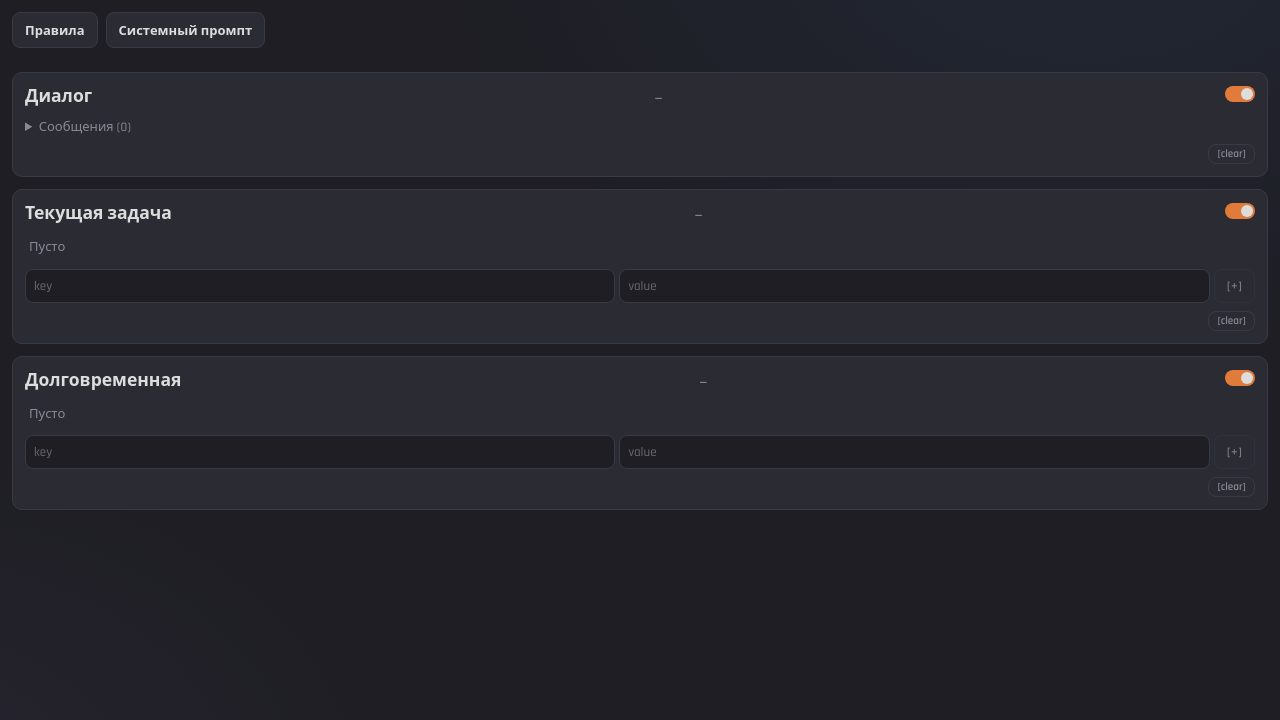
Test: MemoryTab — модалки «Правила» и «Системный промпт» › «Правила» — системный промпт, статус «Активно» и текст memory_rule из /api/rules
Click the button "Правила".
click(55, 30)  # box [12,12,98,48]
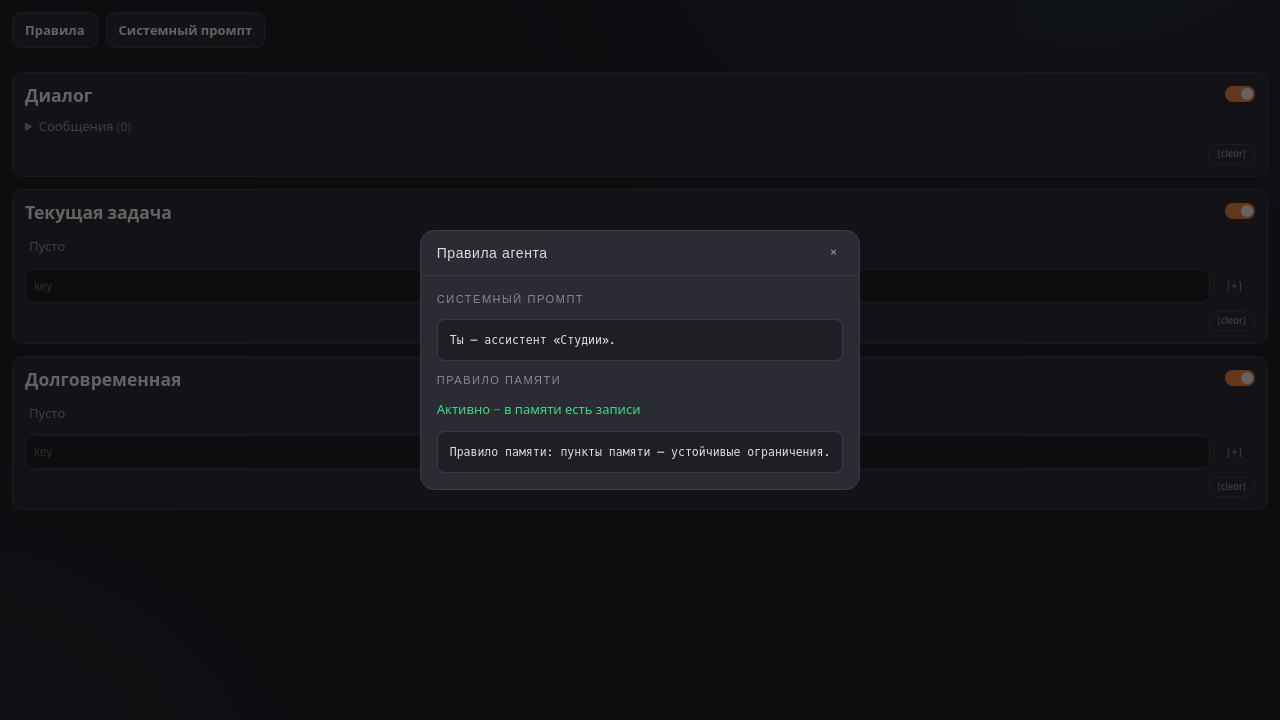
Now the text "Ты — ассистент «Студии»." is shown, box [437,319,843,361]
Now the text "Активно — в памяти есть записи" is shown, box [437,402,640,418]
Now the text "Правило памяти: пункты памяти — устойчивые ограничения." is shown, box [437,431,843,473]
